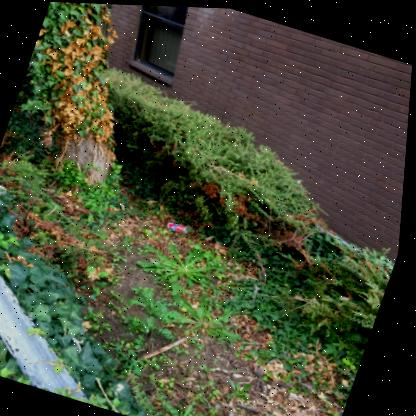Metal: (169, 219, 190, 231)
